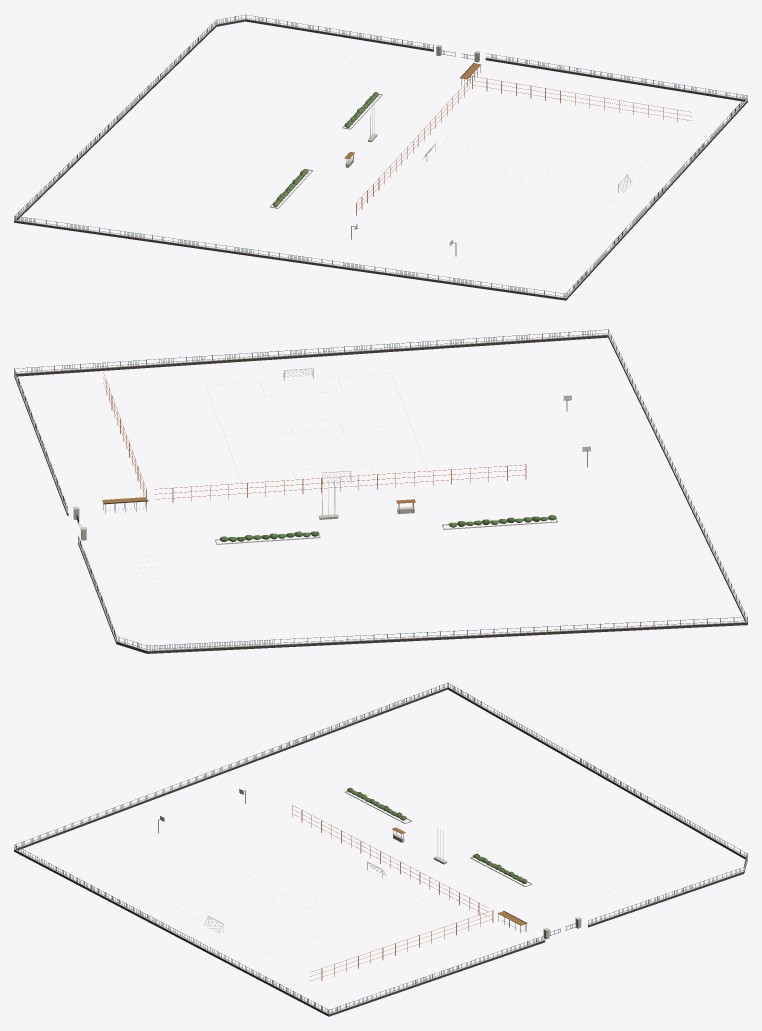
The picture shows the model from 3 angles, top to bottom: view 1: azimuth 30°, elevation 25°; view 2: azimuth 150°, elevation 25°; view 3: azimuth 270°, elevation 25°; orthographic projection. The views are drawn at different scales.
Visible parts, largest first — view 1: prop_boundary-fence, prop_backstop-fence, prop_flowerbeds; view 2: prop_boundary-fence, prop_backstop-fence, prop_flowerbeds, prop_field-lines; view 3: prop_boundary-fence, prop_backstop-fence, prop_flowerbeds.
Part boxes in pixels (left/top/right/bottom): prop_boundary-fence: left=14, top=14, right=747, bottom=300; prop_backstop-fence: left=356, top=76, right=692, bottom=215; prop_flowerbeds: left=270, top=92, right=382, bottom=208; prop_boundary-fence: left=14, top=329, right=747, bottom=653; prop_backstop-fence: left=103, top=372, right=526, bottom=504; prop_flowerbeds: left=215, top=515, right=557, bottom=544; prop_field-lines: left=206, top=373, right=429, bottom=487; prop_boundary-fence: left=14, top=682, right=747, bottom=1016; prop_backstop-fence: left=292, top=805, right=493, bottom=980; prop_flowerbeds: left=345, top=787, right=532, bottom=886.
Bounding box in the file's own units: 178 × 8.2 × 169.
